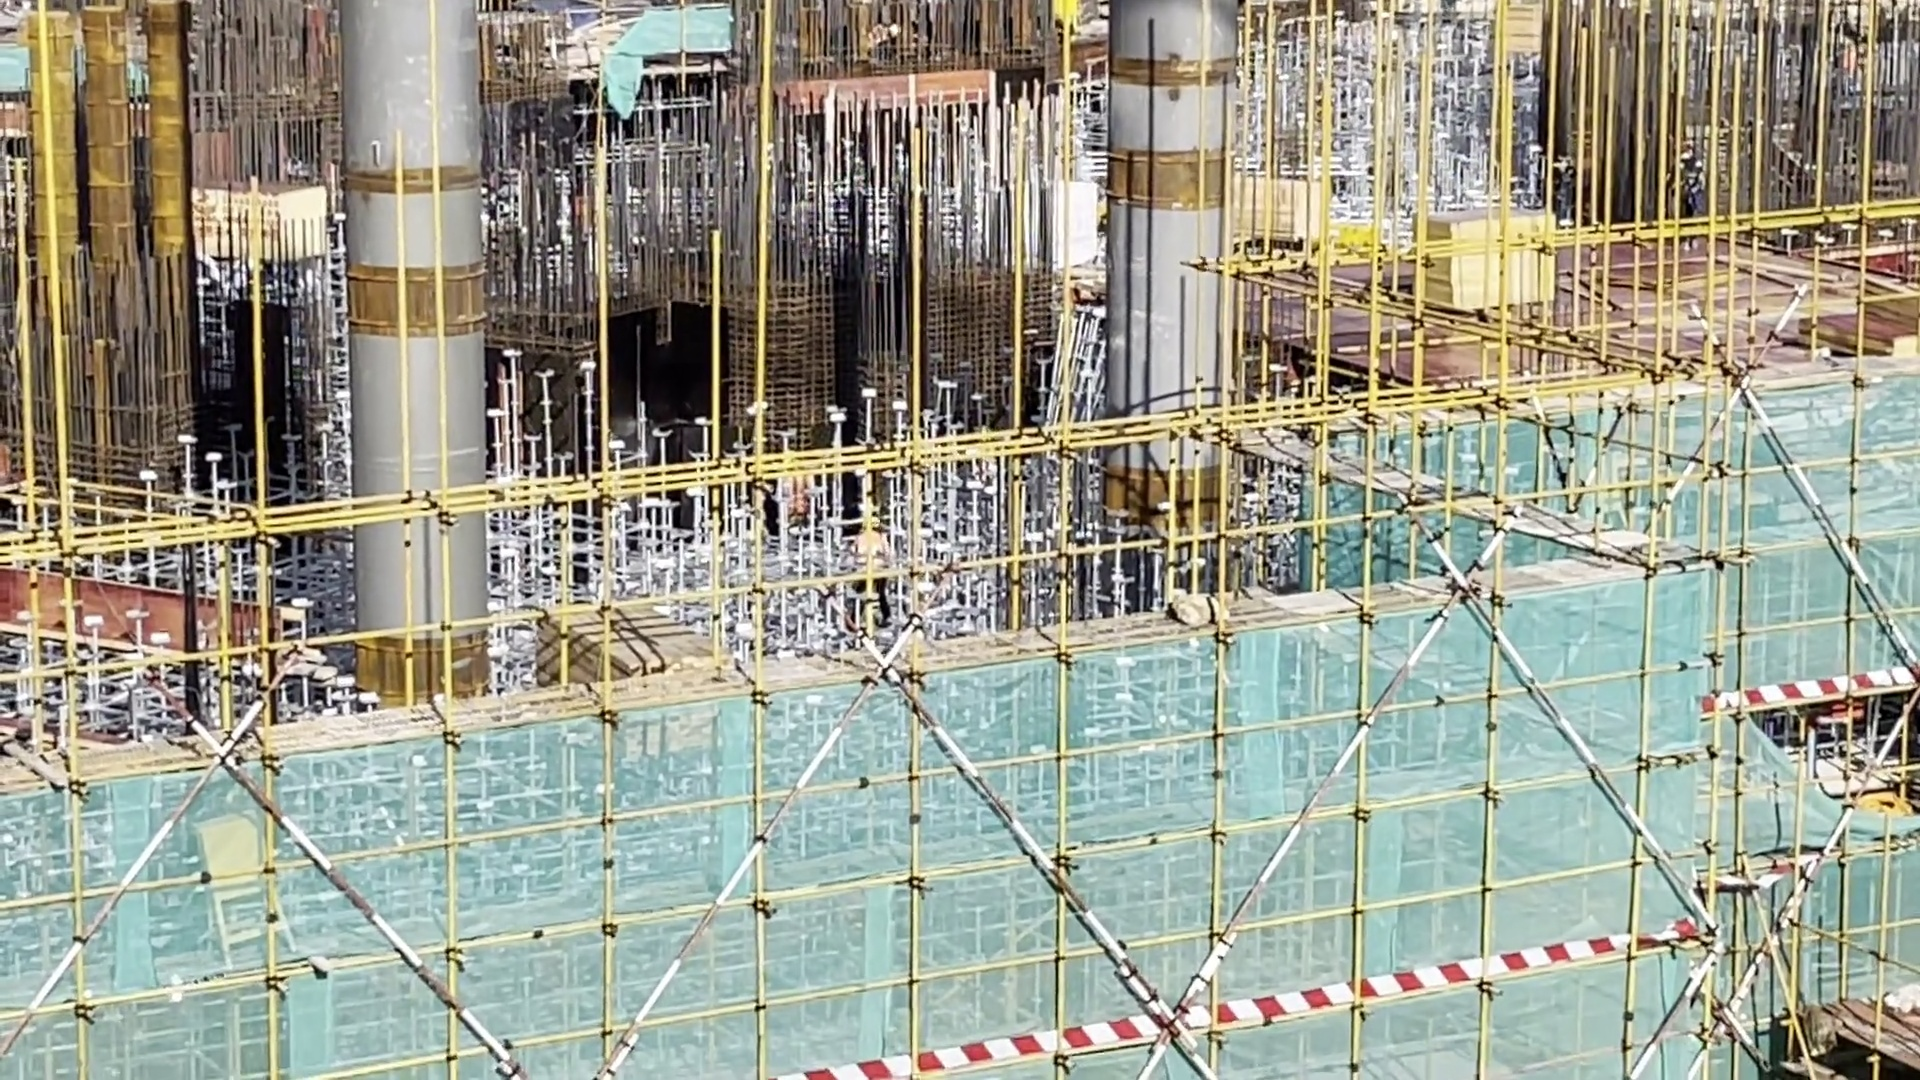ebox: (181, 815, 309, 952)
person: (867, 21, 893, 64)
